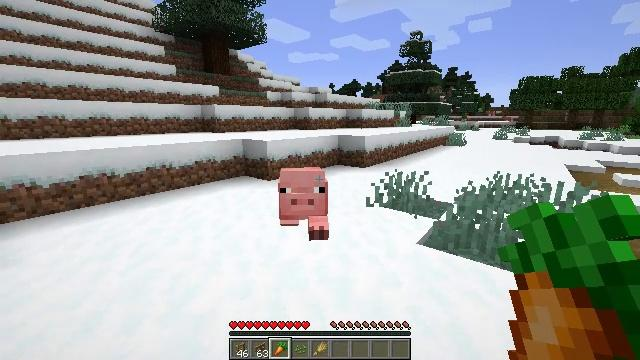pig: (279, 167, 328, 241)
